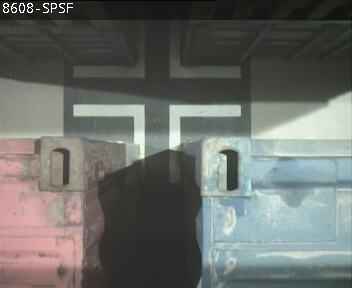groundmarker_1: (73, 105, 242, 183), (71, 1, 240, 78)
